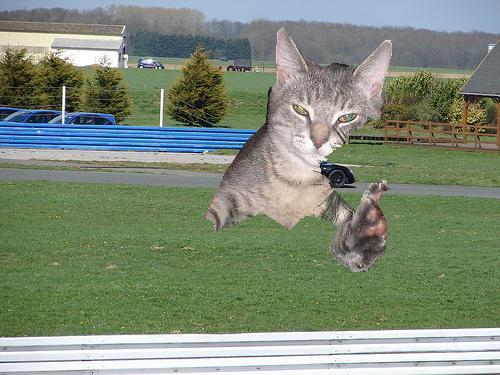tampered: (207, 28, 392, 272)
